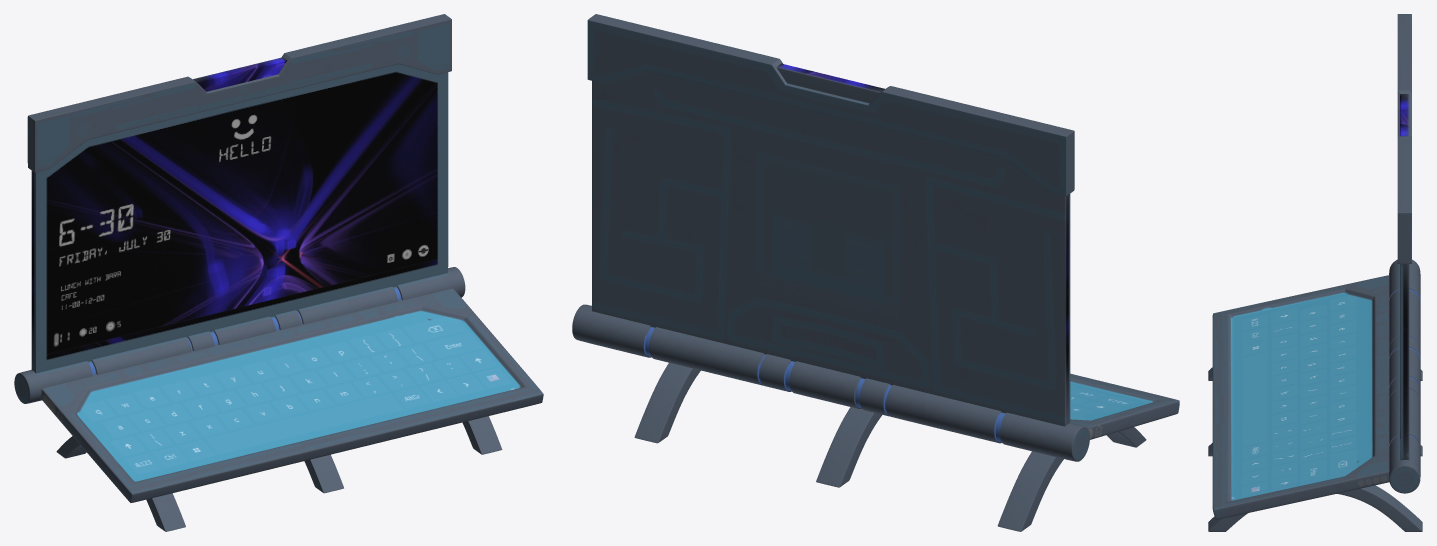
The picture shows the model from 3 angles, left to right: view 1: azimuth 30°, elevation 25°; view 2: azimuth 150°, elevation 25°; view 3: azimuth 270°, elevation 25°; orthographic projection. The views are drawn at different scales.
Parts seen in each view (by area): view 1: XI FY Laptop.Shape; view 2: XI FY Laptop.Shape; view 3: XI FY Laptop.Shape.
Part boxes in pixels (box(x1,y1,x2,y2)): XI FY Laptop.Shape: box(14, 14, 543, 531); XI FY Laptop.Shape: box(572, 14, 1179, 531); XI FY Laptop.Shape: box(1208, 14, 1422, 531).
Size of the model in its own units: 0.7069 by 0.5407 by 0.3077.
Materials: 1 (1 with a texture image).
